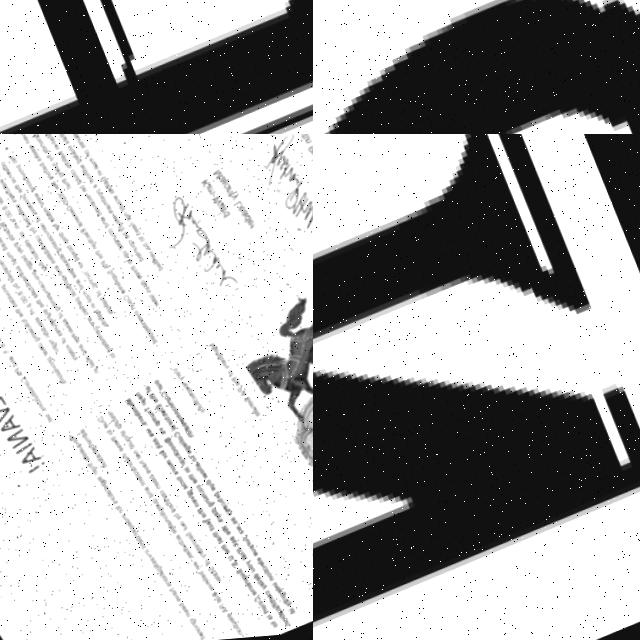0: (16, 299, 26, 307), (14, 295, 23, 303), (2, 213, 11, 221), (0, 210, 9, 217), (59, 201, 68, 208), (54, 194, 63, 201)
2: (56, 197, 65, 205), (52, 192, 61, 199)
8: (10, 290, 21, 299), (0, 204, 7, 213)
C: (322, 0, 640, 134)
H: (0, 0, 313, 134)
N: (313, 134, 640, 640)
